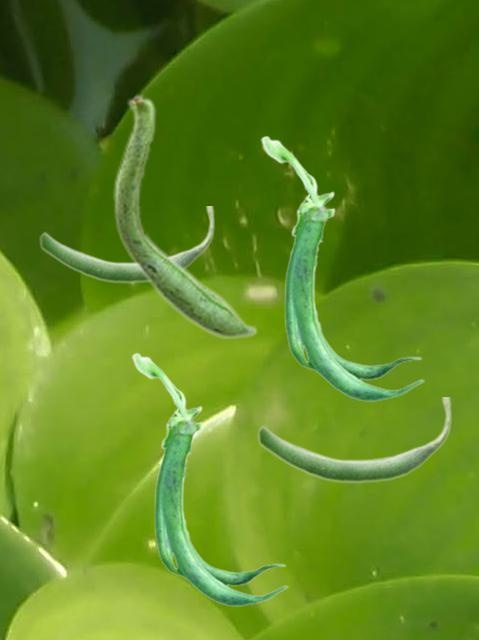french_bean: (260, 135, 423, 401), (131, 352, 287, 606), (113, 92, 257, 339), (257, 397, 451, 483), (39, 206, 214, 283)
